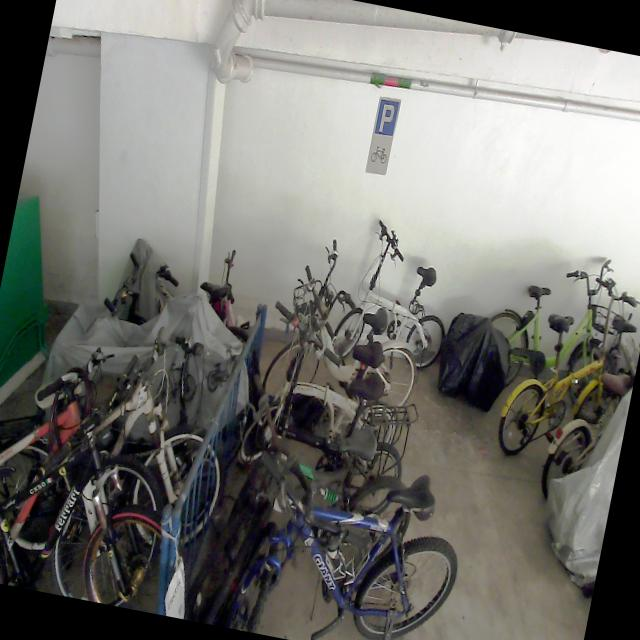bike: (0, 300, 248, 590), (0, 328, 227, 619), (197, 436, 474, 640), (226, 352, 418, 550), (260, 230, 439, 422), (238, 297, 416, 490), (471, 239, 640, 429), (494, 262, 640, 473), (330, 214, 465, 376)
